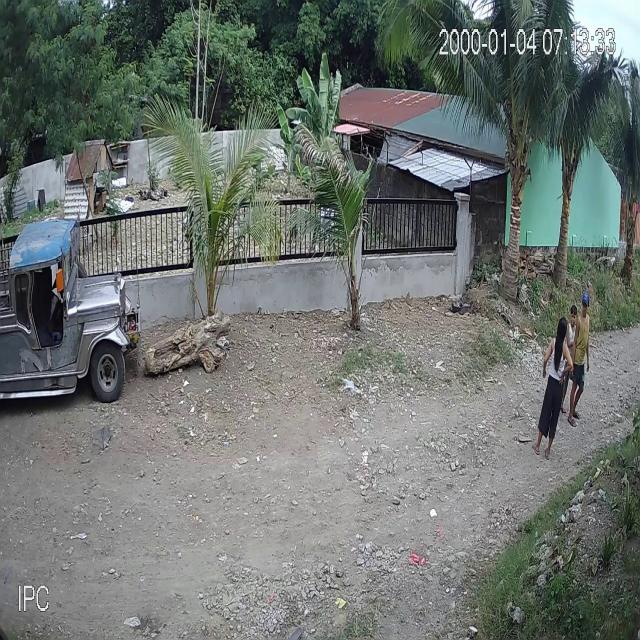standing: (532, 315, 575, 462), (561, 284, 593, 429), (557, 304, 579, 417)
